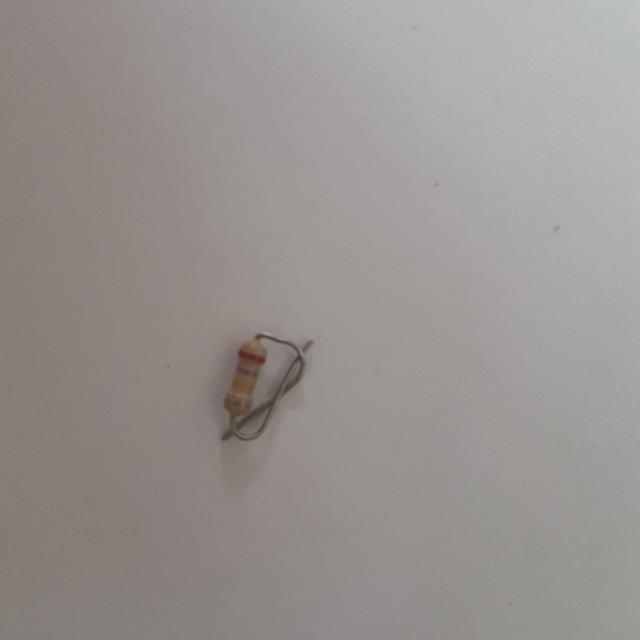gold: (224, 397, 252, 406)
red: (238, 349, 264, 363)
resistor: (207, 318, 293, 434)
violet: (235, 366, 257, 376)
yellow: (231, 379, 254, 389)
